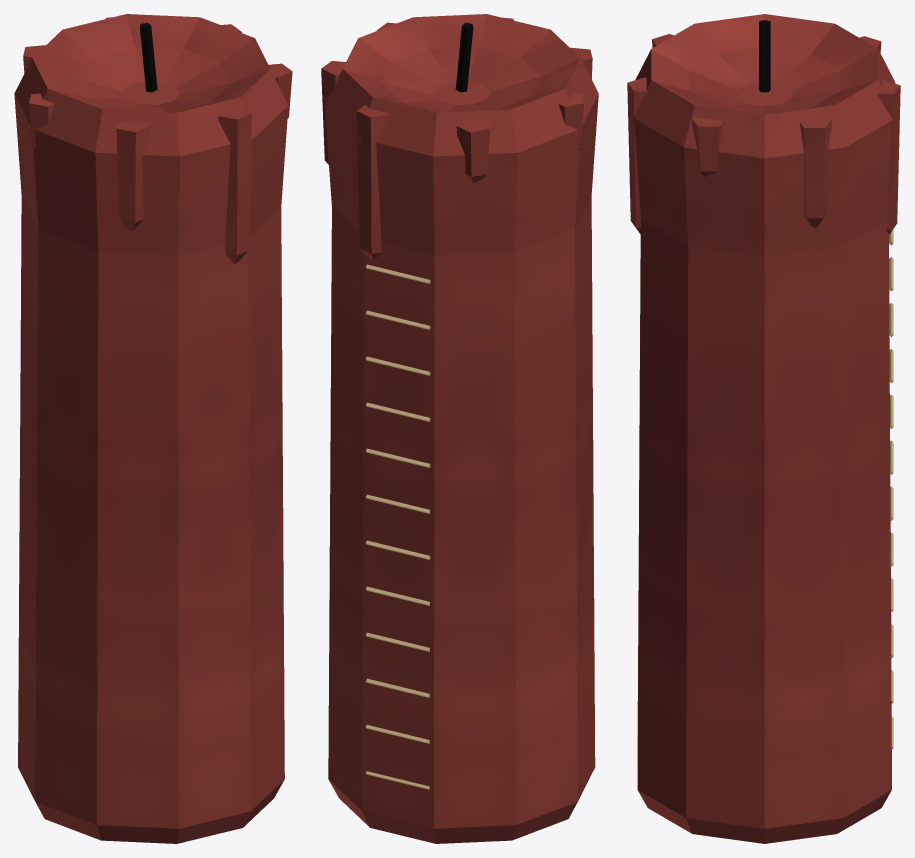
Rendered from Candle_Oxblood.obj.
The picture shows the model from 3 angles, left to right: view 1: azimuth 30°, elevation 25°; view 2: azimuth 150°, elevation 25°; view 3: azimuth 270°, elevation 25°; orthographic projection.
Visible parts, largest first — view 1: Candle_Oxblood_Mesh; view 2: Candle_Oxblood_Mesh; view 3: Candle_Oxblood_Mesh.
Boxes of the visible parts, <box> form: Candle_Oxblood_Mesh: <box>14,14,292,843</box>; Candle_Oxblood_Mesh: <box>321,14,598,843</box>; Candle_Oxblood_Mesh: <box>627,14,900,843</box>.
Bounding box in the file's own units: 0.077 × 0.2341 × 0.0756.
3 materials, 2 textured.
